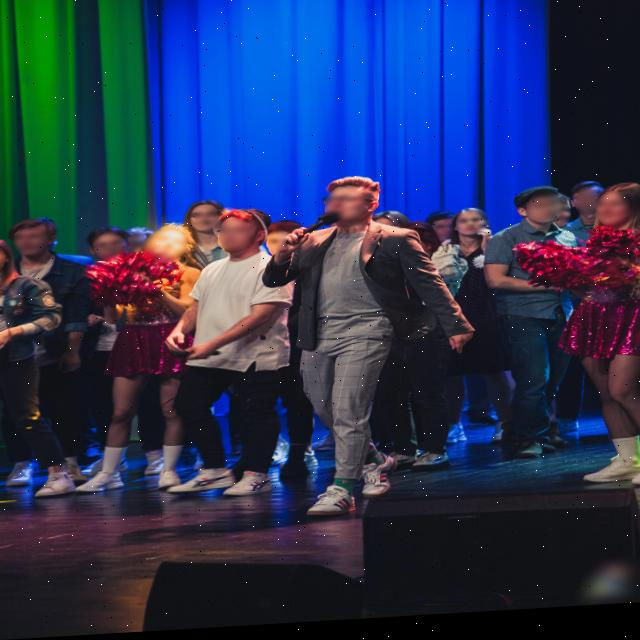Person: (289, 169, 409, 526), (200, 208, 292, 516), (499, 186, 585, 461), (568, 185, 640, 507), (125, 215, 191, 514), (17, 218, 81, 453), (444, 213, 495, 461), (176, 194, 224, 260), (95, 229, 122, 288)
